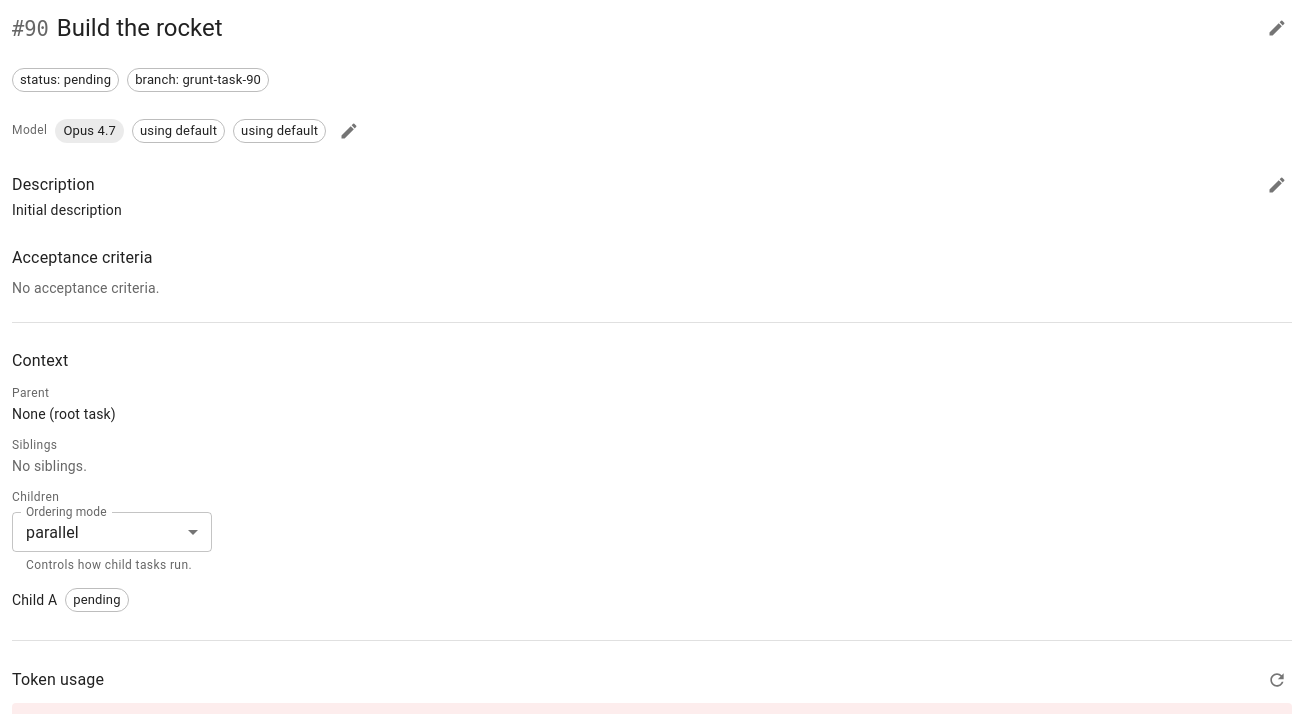
Test: TaskDetailPage › PATCHes ordering_mode as null when the override is set back to inherit
What coordinates should you click on to do the following:
click the dropdown named "Ordering mode"
I would click on:
 (52, 532)
Its box is 26,523 -> 79,542.
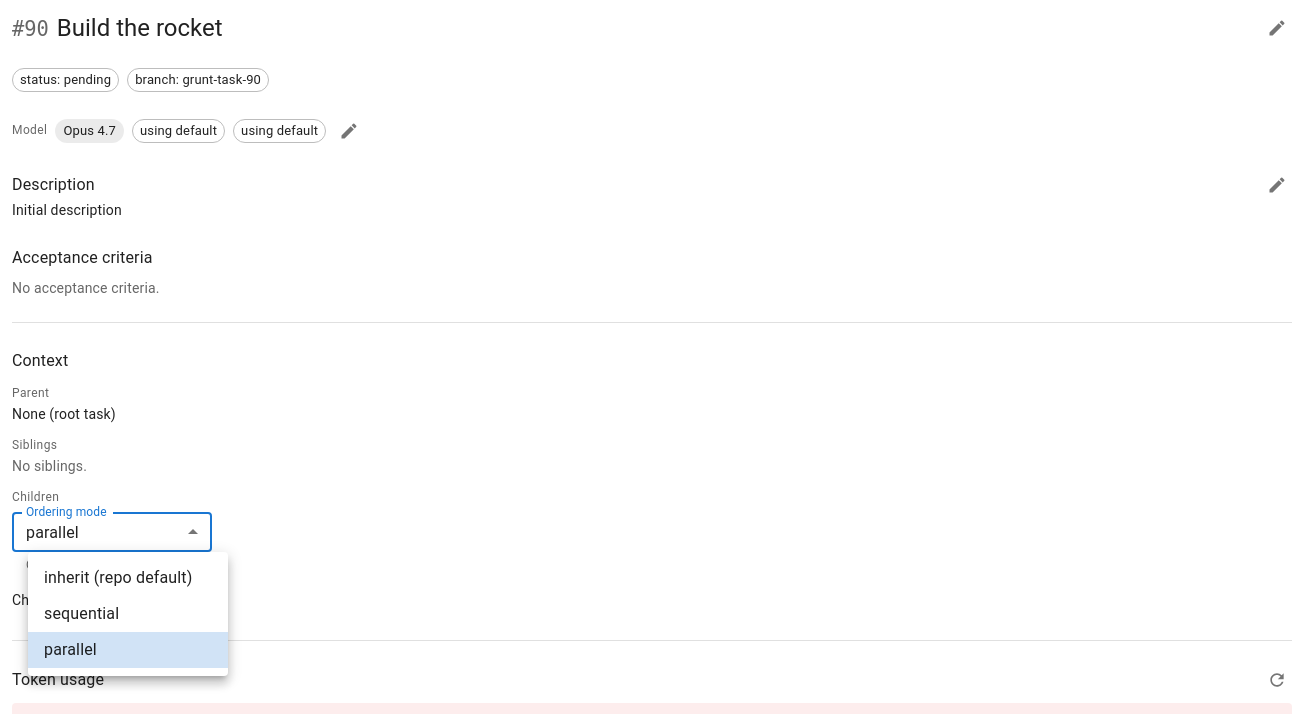
What coordinates should you click on to do the following:
click the option "inherit (repo default)"
I would click on:
 (118, 578)
Its box is 44,568 -> 192,587.
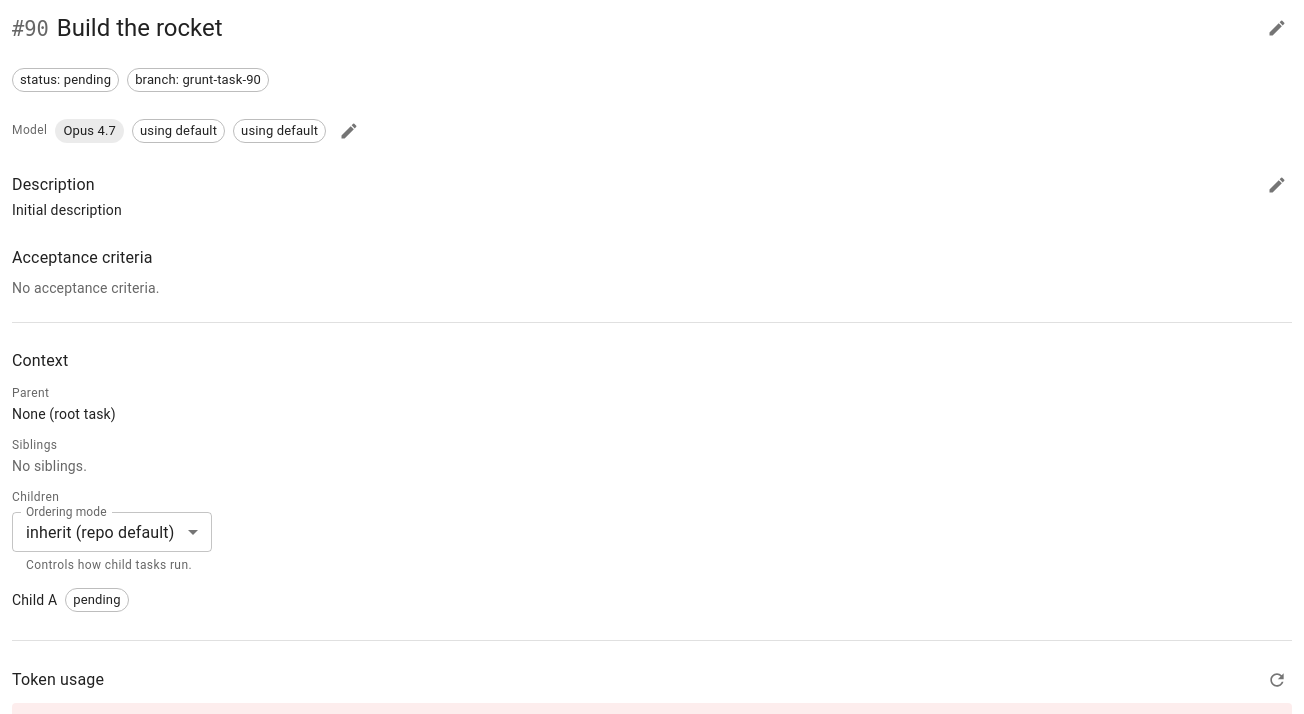
Expected: the dropdown "inherit (repo default)" is shown, 26,523 -> 174,542
